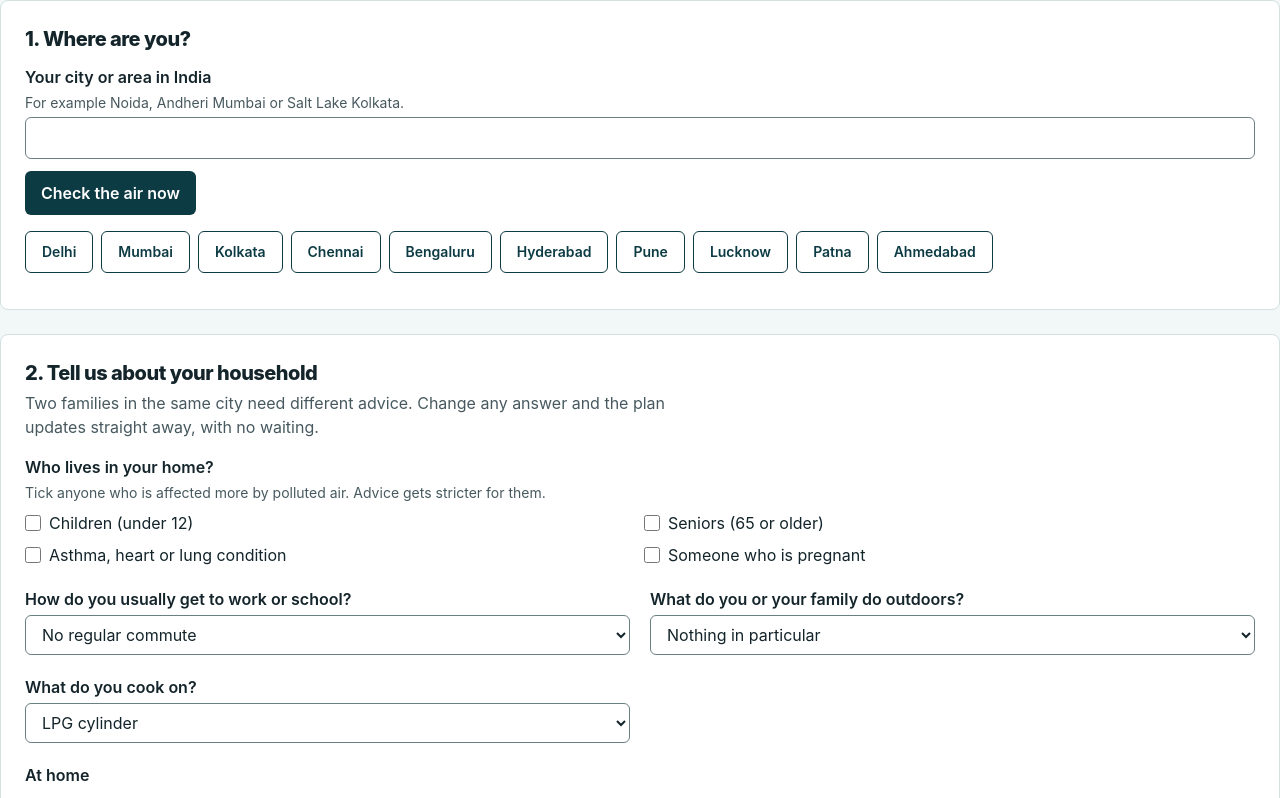
it: re-planning when the household changes › gives a different plan for a different commute
Click the button "Delhi". click: [59, 252]
box: [25,231,93,273]
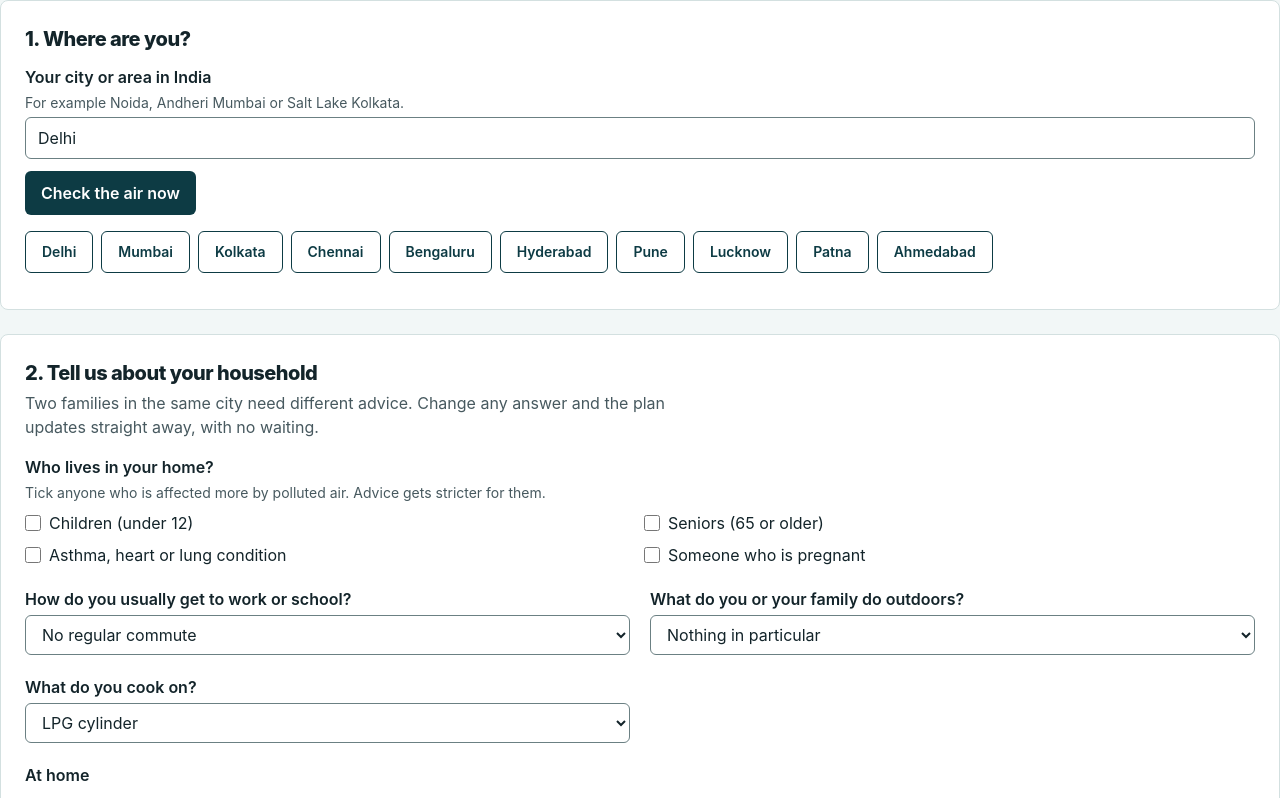
Select "Car" in the dropdown labelled "How do you usually get to work or school?". click: [328, 635]
box: [25,615,630,655]
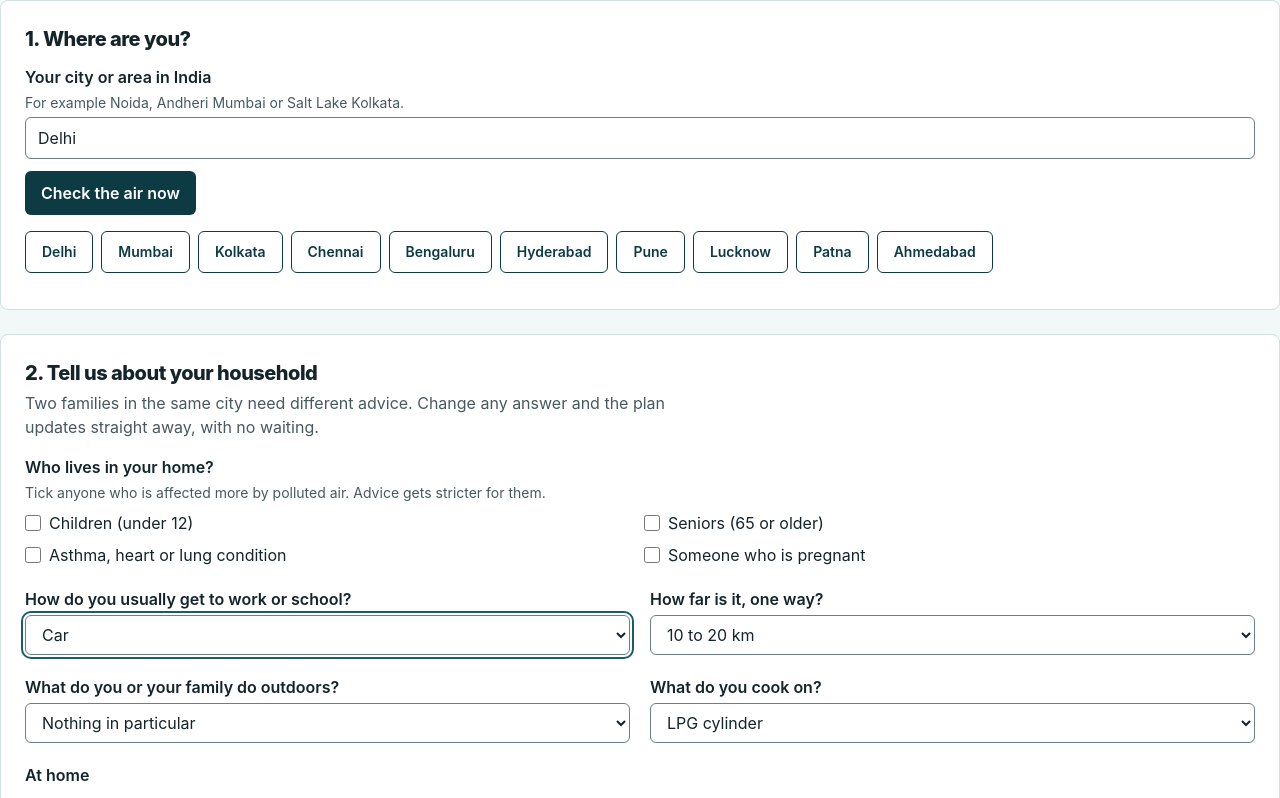
Select "Motorbike or scooter" in the dropdown labelled "How do you usually get to work or school?". click: [328, 635]
box: [25,615,630,655]
(page scrolled)
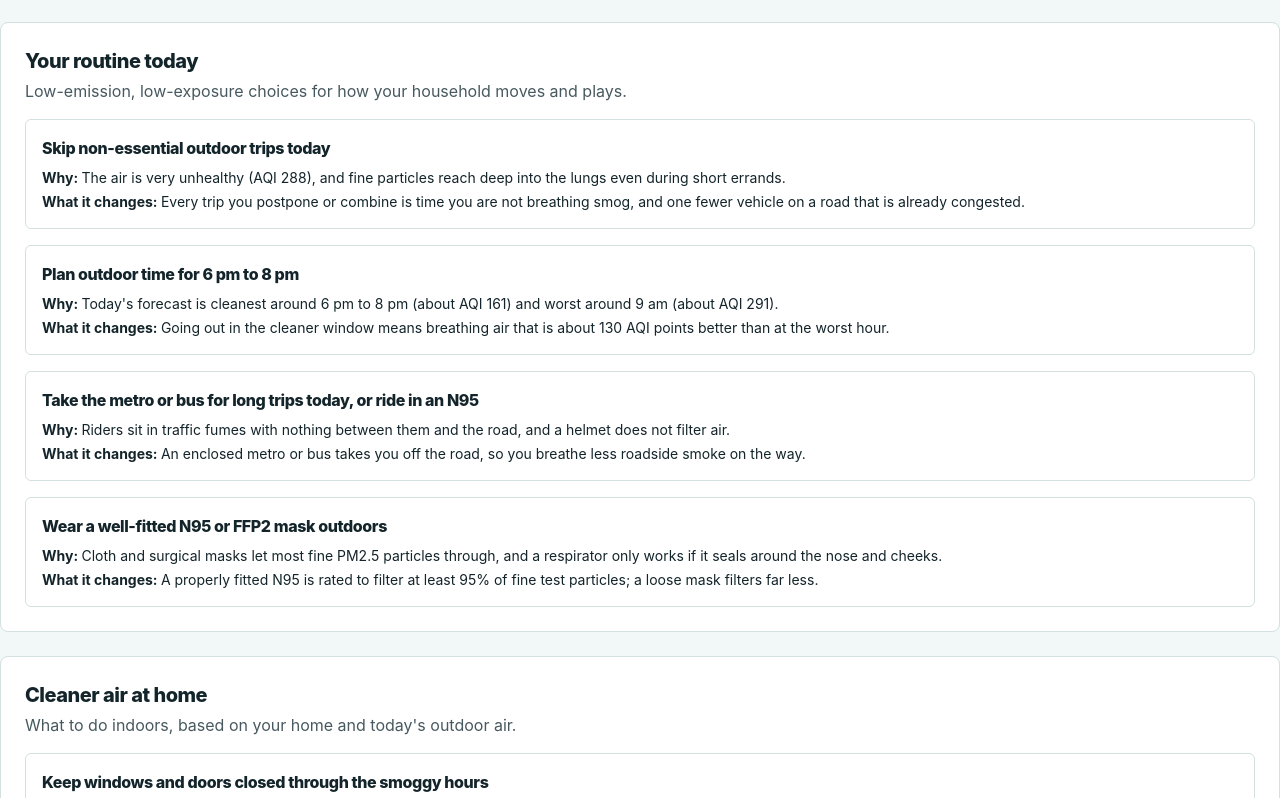
Result: the heading "Take the metro or bus for long trips" is shown at [42,390,479,410]
